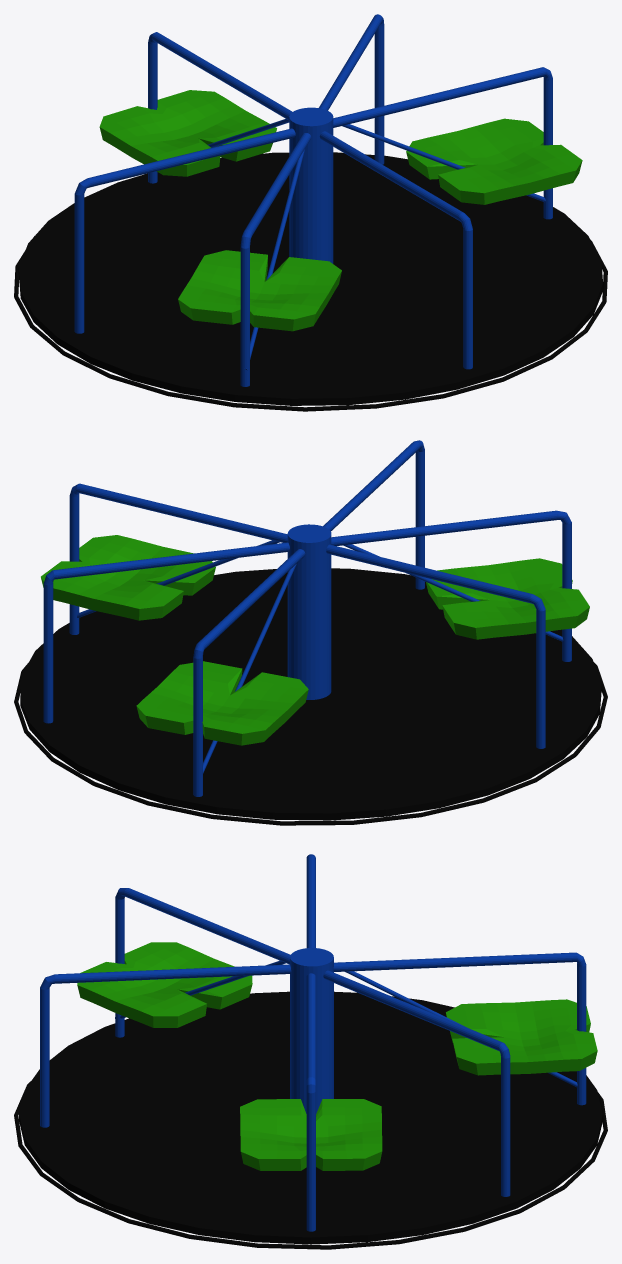
File: MerrygoRound_EM.fbx
3 views of the same model, one above another, from view 1: azimuth 30°, elevation 25°; view 2: azimuth 150°, elevation 25°; view 3: azimuth 270°, elevation 25° (orthographic).
Visible parts, largest first — view 1: MerrygoRound_EM; view 2: MerrygoRound_EM; view 3: MerrygoRound_EM.
Boxes of the visible parts, x1=… form: MerrygoRound_EM: x1=14, y1=14, x2=607, y2=411; MerrygoRound_EM: x1=14, y1=440, x2=607, y2=825; MerrygoRound_EM: x1=14, y1=854, x2=607, y2=1249.
Size of the model in its own units: 551 by 172 by 551.
